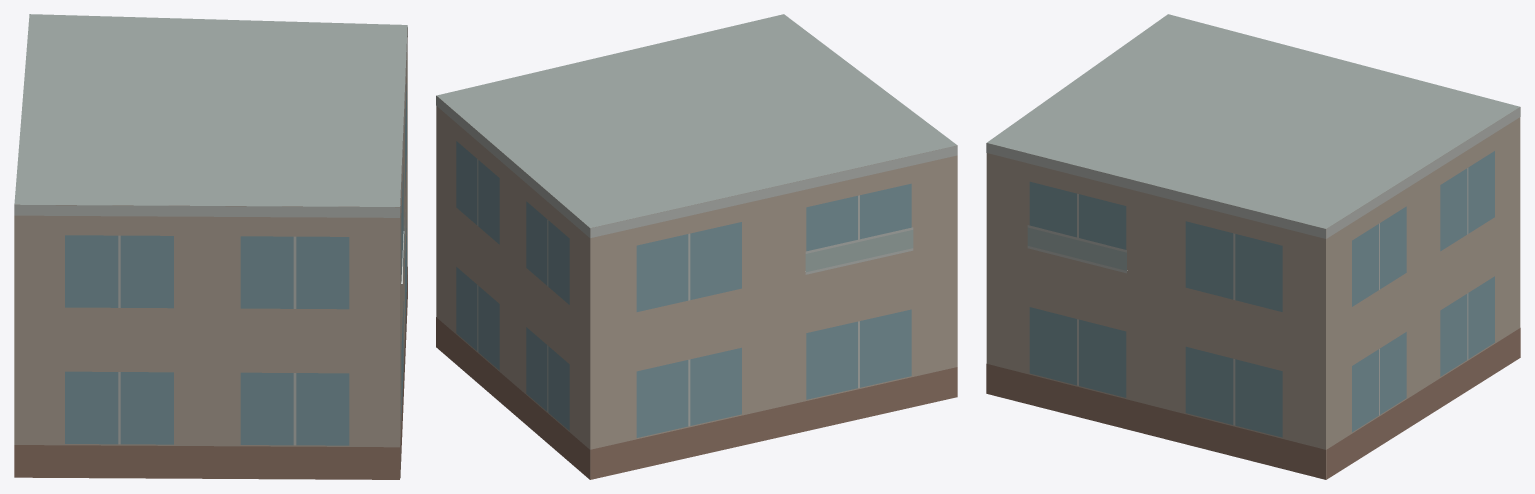
Rendered from survey-upis-32848451.glb.
The picture shows the model from 3 angles, left to right: view 1: azimuth 30°, elevation 25°; view 2: azimuth 150°, elevation 25°; view 3: azimuth 270°, elevation 25°; orthographic projection. The views are drawn at different scales.
Parts seen in each view (by area): view 1: survey-upis-32848451.tmp; view 2: survey-upis-32848451.tmp; view 3: survey-upis-32848451.tmp.
Boxes of the visible parts, x1=… form: survey-upis-32848451.tmp: x1=14, y1=14, x2=407, y2=479; survey-upis-32848451.tmp: x1=436, y1=14, x2=957, y2=479; survey-upis-32848451.tmp: x1=986, y1=14, x2=1520, y2=479.
Bounding box in the file's own units: 11.22 × 6.1 × 11.78.
